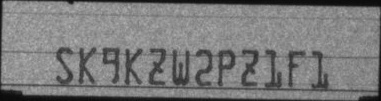1: (264, 48, 283, 89), (312, 49, 330, 89)
2: (194, 48, 214, 87)
9: (102, 46, 120, 85)
F: (287, 49, 306, 87)
K: (124, 47, 143, 85), (78, 47, 96, 84)
P: (216, 49, 236, 88)
S: (56, 46, 74, 84)
W: (171, 47, 191, 87)
Z: (147, 46, 167, 86), (240, 48, 259, 86)
